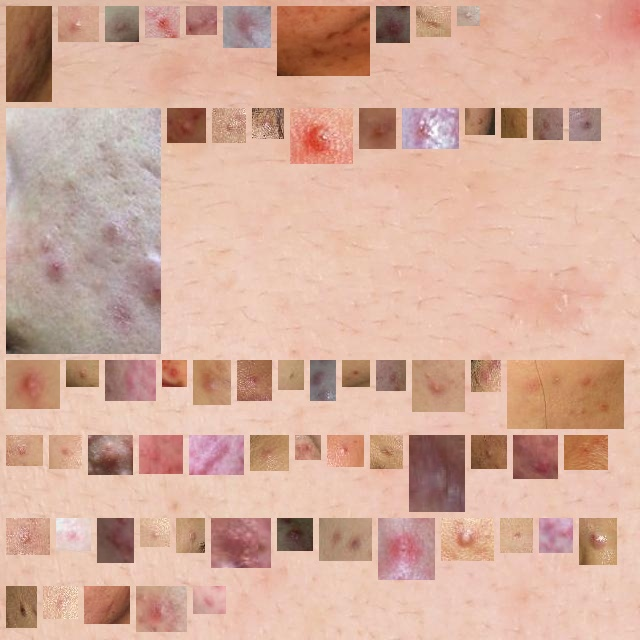papule: (14, 116, 153, 346), (515, 368, 616, 421), (285, 14, 362, 68), (417, 443, 457, 504), (14, 14, 44, 94), (386, 526, 427, 572), (298, 116, 345, 156), (219, 526, 263, 560), (420, 368, 457, 404), (14, 368, 52, 401), (144, 594, 179, 624), (410, 116, 451, 141), (327, 526, 364, 553), (449, 526, 486, 553), (197, 443, 236, 467), (113, 368, 148, 393), (231, 14, 263, 40), (521, 443, 550, 471), (96, 443, 125, 467), (587, 526, 609, 557), (92, 594, 122, 616), (147, 443, 175, 466), (201, 368, 223, 397), (105, 526, 126, 555), (14, 526, 42, 547), (572, 443, 600, 462), (367, 116, 388, 141), (66, 14, 91, 34), (107, 14, 131, 34), (245, 368, 264, 393), (258, 443, 281, 463), (310, 368, 328, 393), (175, 116, 198, 135), (14, 594, 29, 620), (384, 14, 402, 35), (479, 443, 499, 461), (220, 116, 238, 135), (547, 526, 565, 545), (285, 526, 305, 543), (335, 443, 356, 459), (64, 526, 83, 543), (508, 526, 525, 545), (51, 594, 70, 611), (14, 443, 35, 458), (57, 443, 74, 461), (378, 443, 395, 461), (153, 14, 172, 30), (424, 14, 443, 29), (577, 116, 593, 133), (184, 526, 197, 545), (260, 116, 276, 131), (541, 116, 555, 132), (479, 368, 493, 384), (384, 368, 398, 383), (201, 594, 218, 606), (194, 14, 209, 27), (74, 368, 91, 379), (148, 526, 162, 539), (473, 116, 487, 127), (509, 116, 519, 130), (286, 368, 296, 382), (350, 368, 362, 379), (170, 368, 179, 379), (303, 443, 313, 452), (465, 14, 472, 18)
